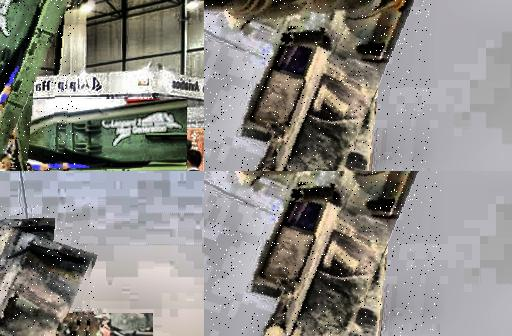tanks: (205, 1, 418, 172), (257, 172, 422, 336), (1, 1, 73, 172), (1, 226, 94, 336)
